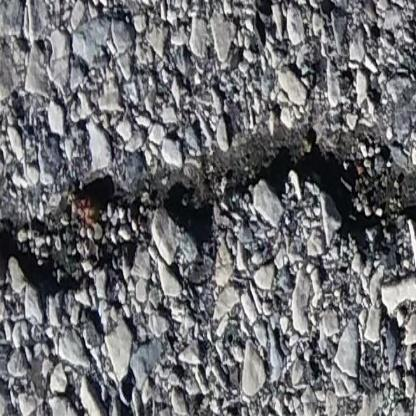Cracks: (0, 119, 416, 324)
